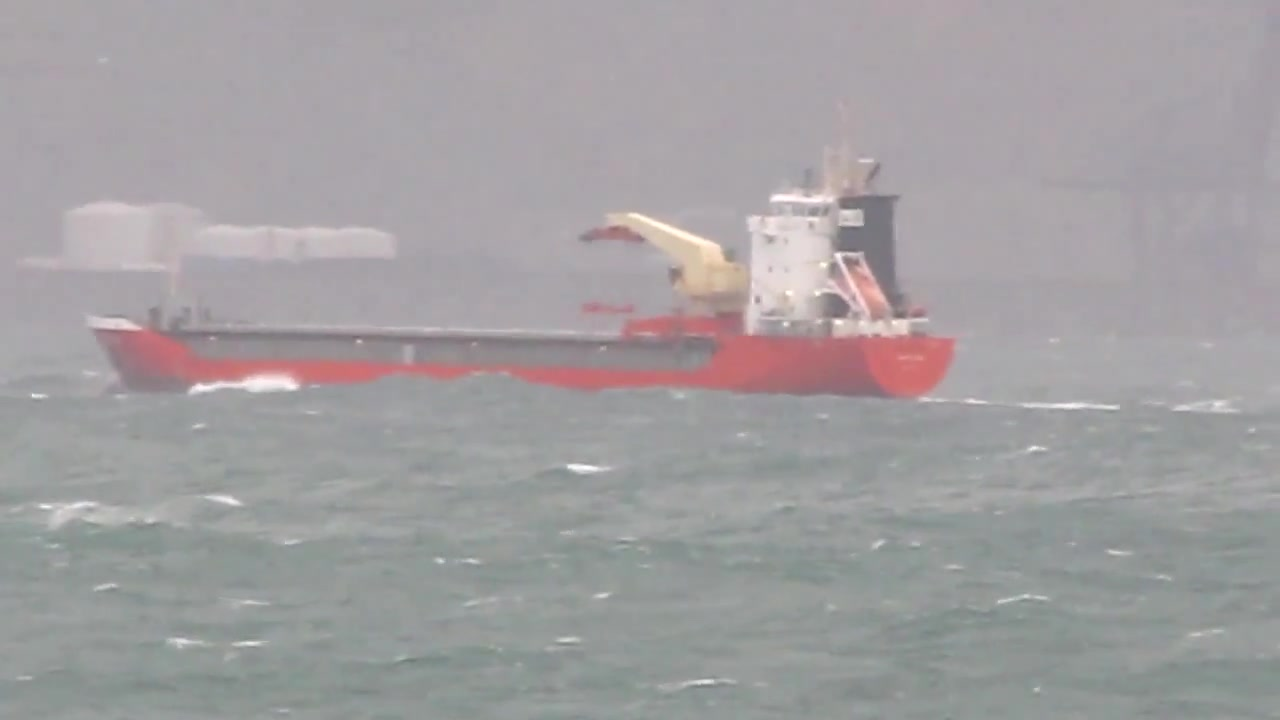boat: (82, 110, 956, 401)
